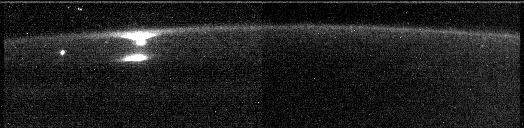negative: (120, 31, 156, 47)
